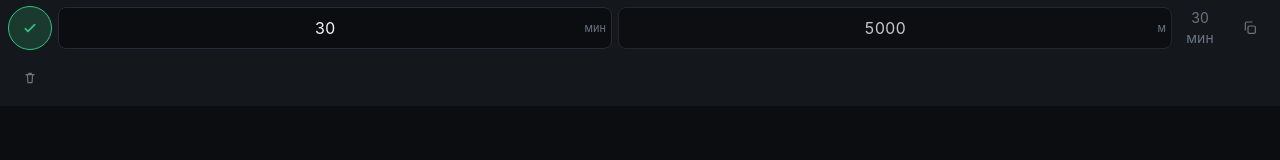
Test case: WorkoutSetRow for timed exercises › refuses an empty duration by restoring the saved value
Clear the field named "Длительность подхода 1, минуты". click: (335, 28)
box: [58, 7, 612, 49]
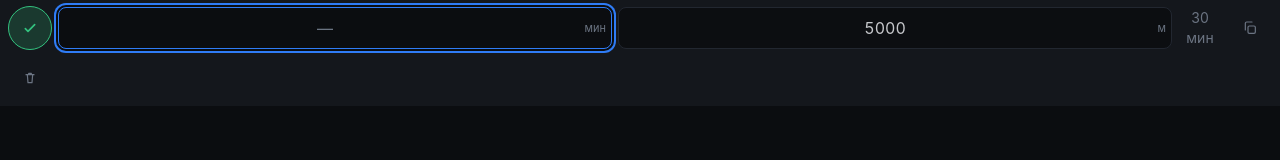
Press Tab
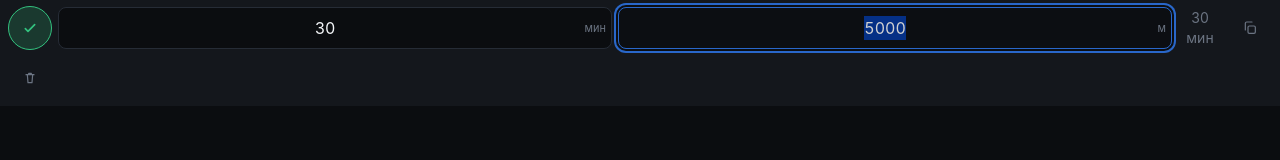
Result: the field named "Длительность подхода 1, минуты" holds "30" at [58, 7, 612, 49]
